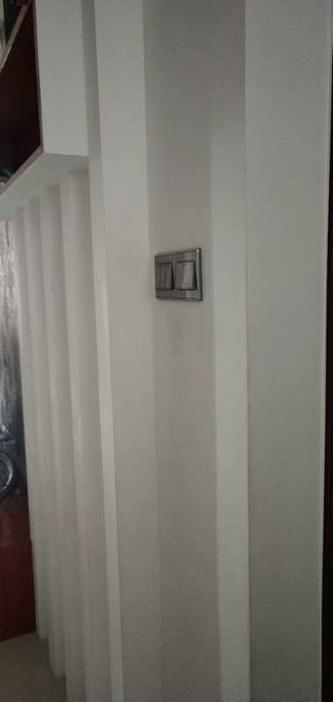switch: (149, 266, 170, 288), (177, 265, 195, 290)
